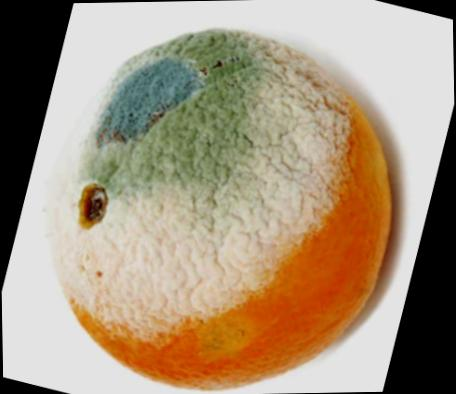Orange Rotten: (39, 3, 407, 394)
